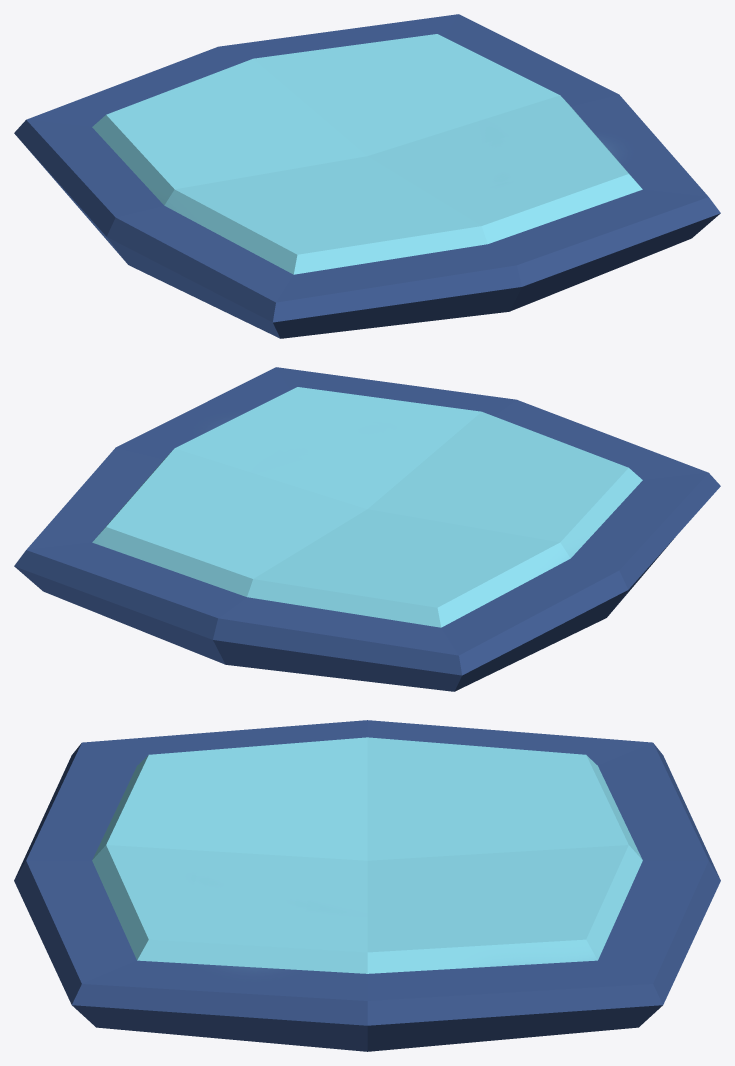
Rendered from almofada 1.fbx.
3 views of the same model, one above another, from view 1: azimuth 30°, elevation 25°; view 2: azimuth 150°, elevation 25°; view 3: azimuth 270°, elevation 25° (orthographic). The views are drawn at different scales.
Visible parts, largest first — view 1: Cube; view 2: Cube; view 3: Cube.
Boxes of the visible parts, x1,y1,x2,y2 form: Cube: (14,14,720,338); Cube: (14,367,720,691); Cube: (14,720,720,1051).
Bounding box in the file's own units: 207 × 27.09 × 213.
